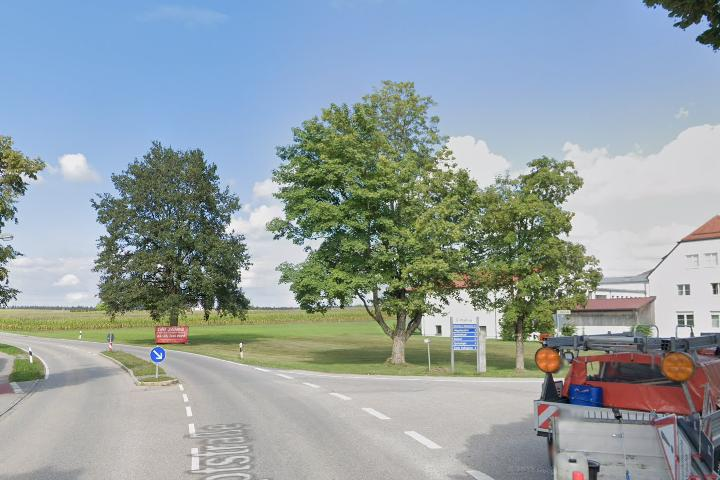traffic_sign: (150, 347, 166, 363)
